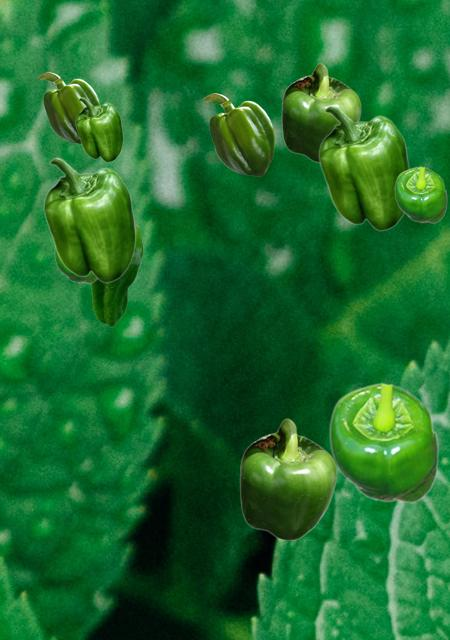bell_pepper: (328, 382, 438, 502), (239, 418, 336, 540), (43, 157, 135, 282), (318, 105, 409, 230), (281, 63, 360, 162), (203, 93, 273, 175), (90, 223, 142, 326), (38, 72, 99, 143), (75, 97, 122, 161), (394, 166, 446, 222), (54, 248, 97, 282)
